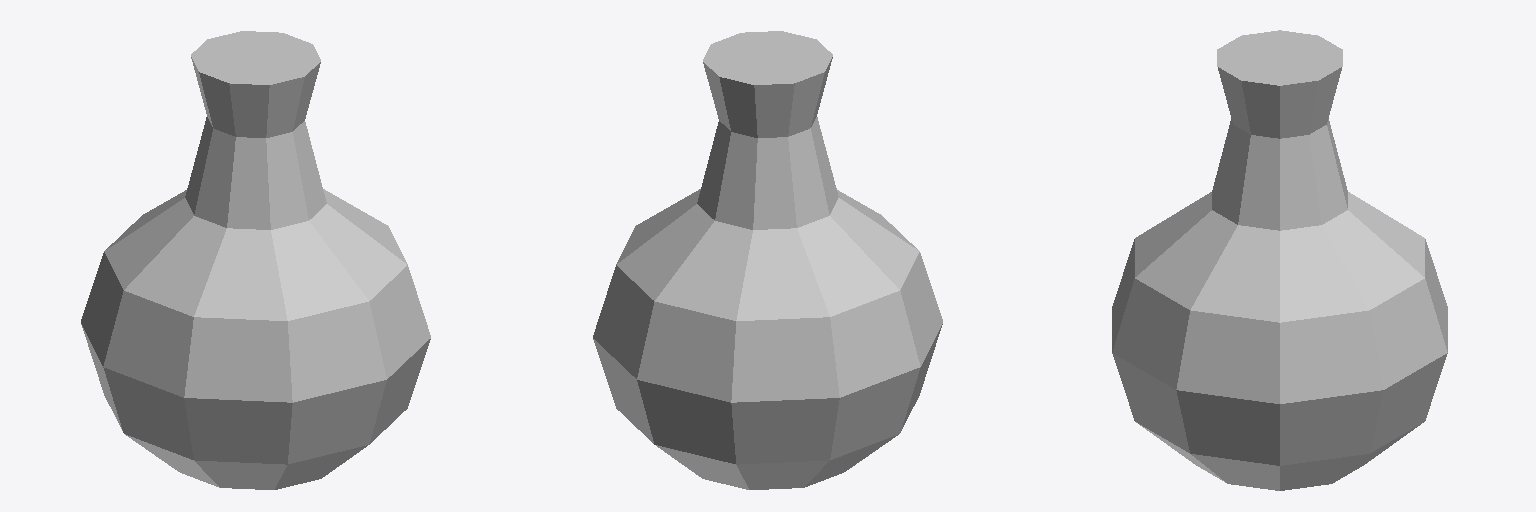
The model's file is potion_health.obj.
3 views of the same model, side by side, from view 1: azimuth 30°, elevation 25°; view 2: azimuth 150°, elevation 25°; view 3: azimuth 270°, elevation 25° (orthographic).
Visible parts, largest first — view 1: Sphere; view 2: Sphere; view 3: Sphere.
Part boxes in pixels (bbox=[...]): Sphere: bbox=[81, 31, 430, 489]; Sphere: bbox=[593, 31, 942, 489]; Sphere: bbox=[1112, 30, 1447, 490].
Size of the model in its own units: 1.43 by 1.77 by 1.36.